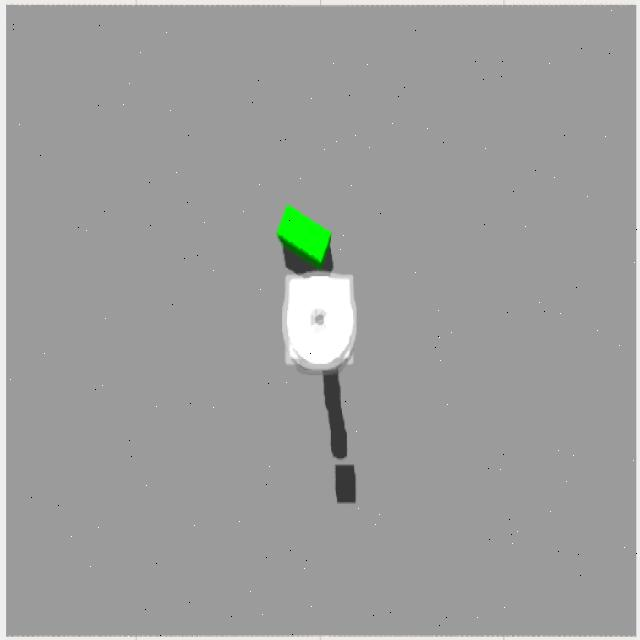box: (277, 205, 331, 268)
